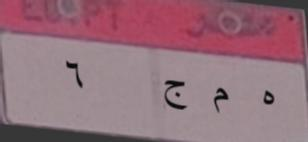6: (62, 56, 87, 93)
haa: (253, 82, 277, 112)
jeem: (158, 74, 191, 115)
meem: (210, 82, 232, 118)
